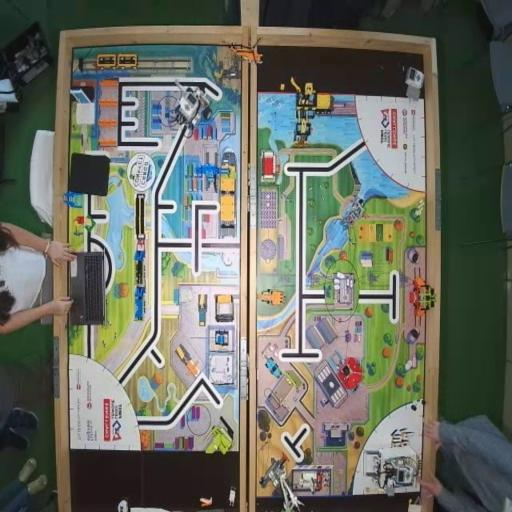lego_robot: (364, 450, 420, 497), (173, 79, 212, 138)
